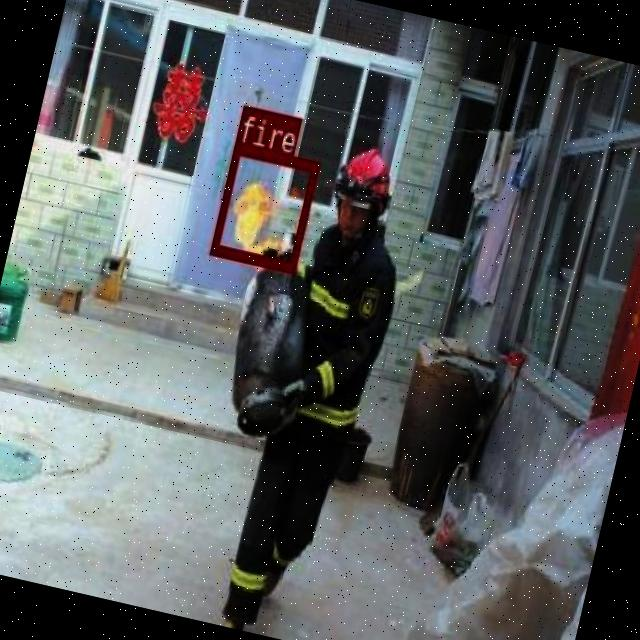fire: (209, 140, 318, 270)
